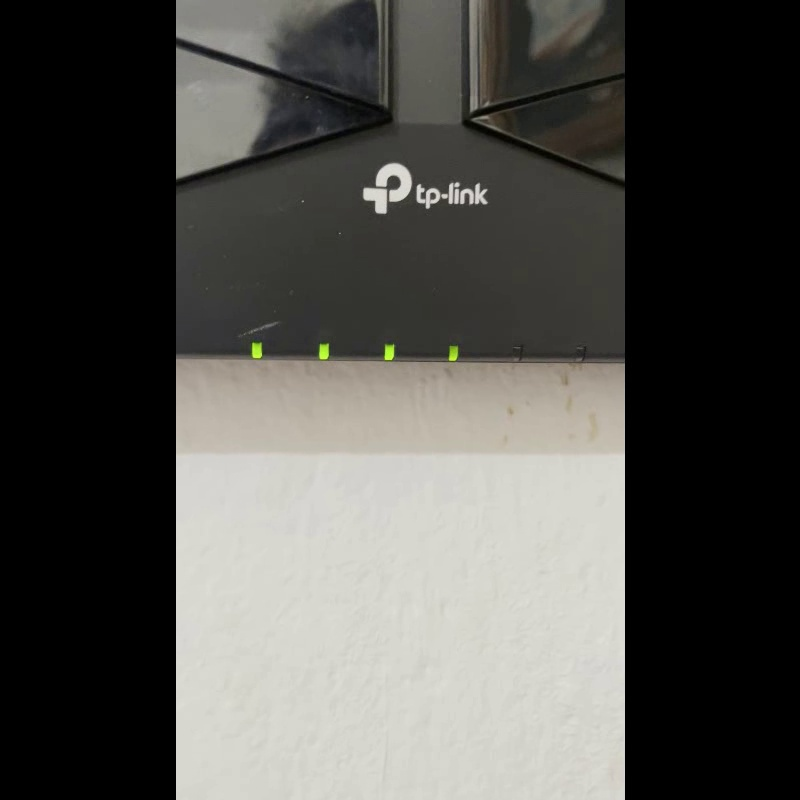off: (572, 344, 585, 361), (512, 343, 522, 360)
on_green: (251, 342, 262, 358), (318, 342, 328, 359), (385, 342, 394, 359), (449, 344, 458, 360)
